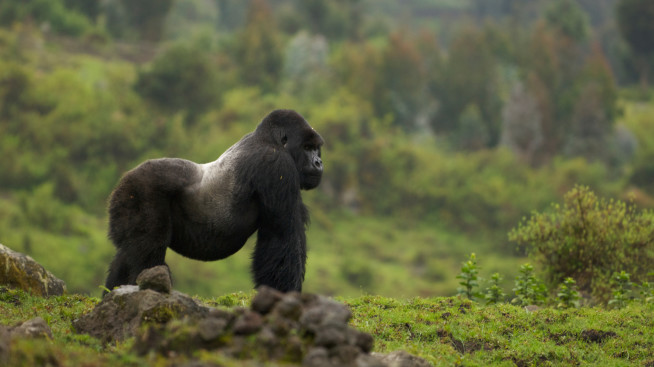Goriila: (74, 92, 341, 302)
